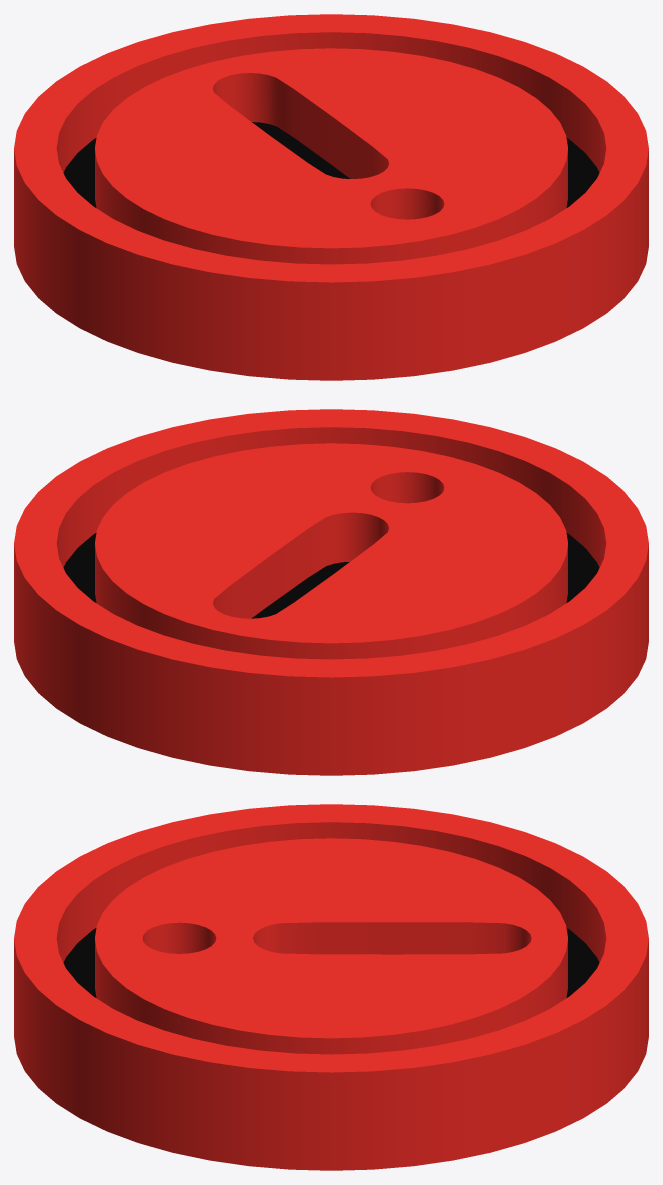
File: Performance-Horrible.FBX
3 views of the same model, one above another, from view 1: azimuth 30°, elevation 25°; view 2: azimuth 150°, elevation 25°; view 3: azimuth 270°, elevation 25° (orthographic).
Parts seen in each view (by area): view 1: Horrible-Perf_LOD0; view 2: Horrible-Perf_LOD0; view 3: Horrible-Perf_LOD0.
Part boxes in pixels (x1=…): Horrible-Perf_LOD0: x1=14, y1=14, x2=648, y2=380; Horrible-Perf_LOD0: x1=14, y1=409, x2=648, y2=775; Horrible-Perf_LOD0: x1=14, y1=804, x2=648, y2=1170.
Size of what is drawn, in the model's own units: 0.575 by 0.0982 by 0.575.
